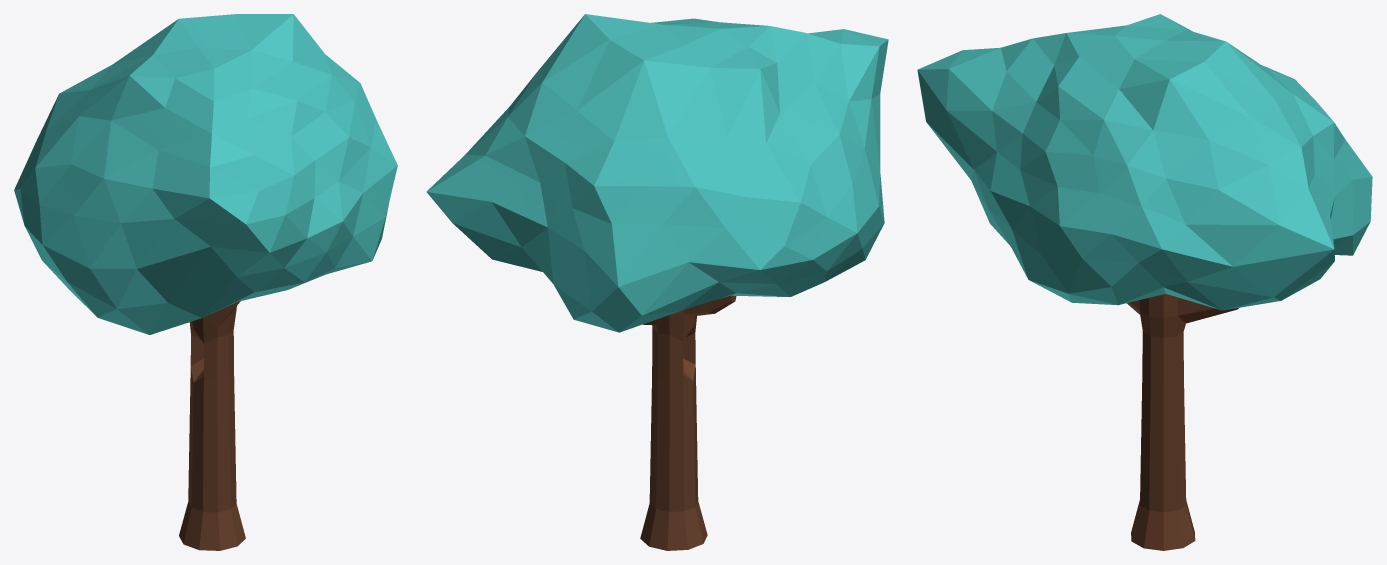
The model's file is Natures2t3-cyan.fbx.
The picture shows the model from 3 angles, left to right: view 1: azimuth 30°, elevation 25°; view 2: azimuth 150°, elevation 25°; view 3: azimuth 270°, elevation 25°; orthographic projection.
Parts seen in each view (by area): view 1: t3-cyan; view 2: t3-cyan; view 3: t3-cyan.
Part boxes in pixels (bbox=[...]): t3-cyan: bbox=[14, 14, 397, 550]; t3-cyan: bbox=[426, 14, 888, 550]; t3-cyan: bbox=[917, 14, 1372, 550].
Bounding box in the file's own units: 651 × 923 × 764.
